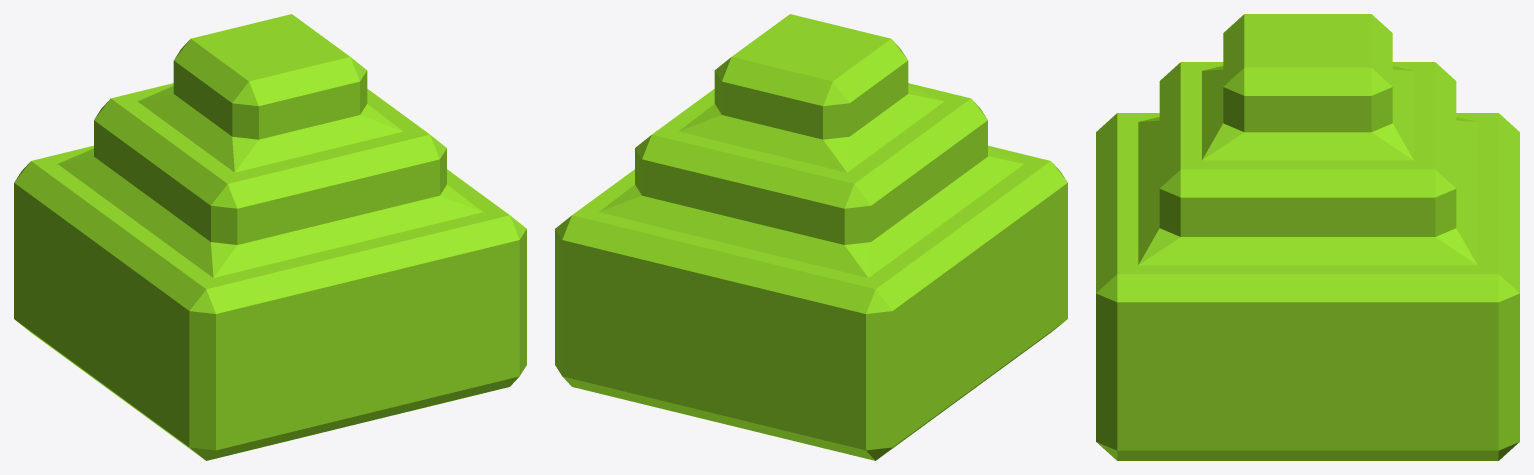
The model's file is Bush1.fbx.
The picture shows the model from 3 angles, left to right: view 1: azimuth 30°, elevation 25°; view 2: azimuth 150°, elevation 25°; view 3: azimuth 270°, elevation 25°; orthographic projection. The views are drawn at different scales.
Visible parts, largest first — view 1: Cube.107; view 2: Cube.107; view 3: Cube.107.
Boxes of the visible parts, left/top/right/bottom form: Cube.107: left=14, top=14, right=526, bottom=460; Cube.107: left=555, top=14, right=1067, bottom=460; Cube.107: left=1096, top=14, right=1519, bottom=460.
Bounding box in the file's own units: 1 × 0.8837 × 1.
